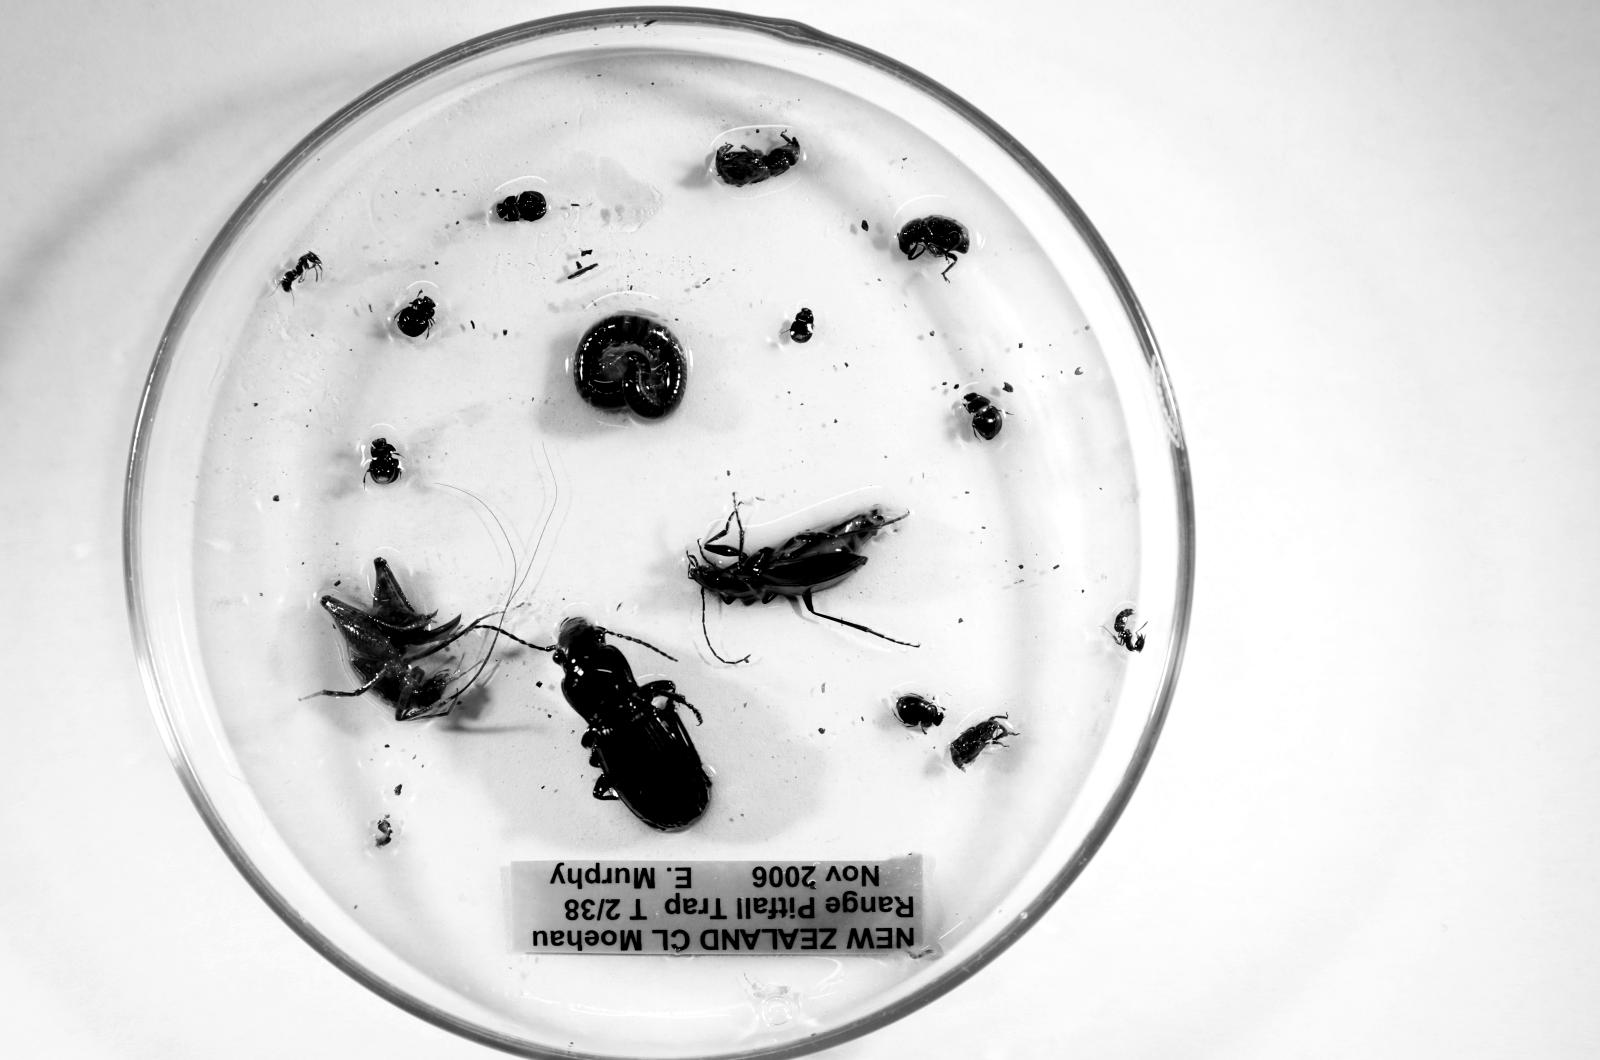carabidae: (553, 617, 712, 831), (688, 505, 908, 609)
coleoptera: (715, 130, 800, 187), (950, 715, 1019, 772), (897, 215, 969, 263), (894, 692, 945, 732), (961, 392, 1003, 440), (394, 291, 436, 338), (366, 438, 402, 484), (495, 191, 547, 222), (789, 308, 814, 343)
diplopoda: (573, 313, 687, 419)
formicidae: (278, 251, 322, 293), (1111, 607, 1145, 652)
orthoptera: (315, 558, 474, 720)
